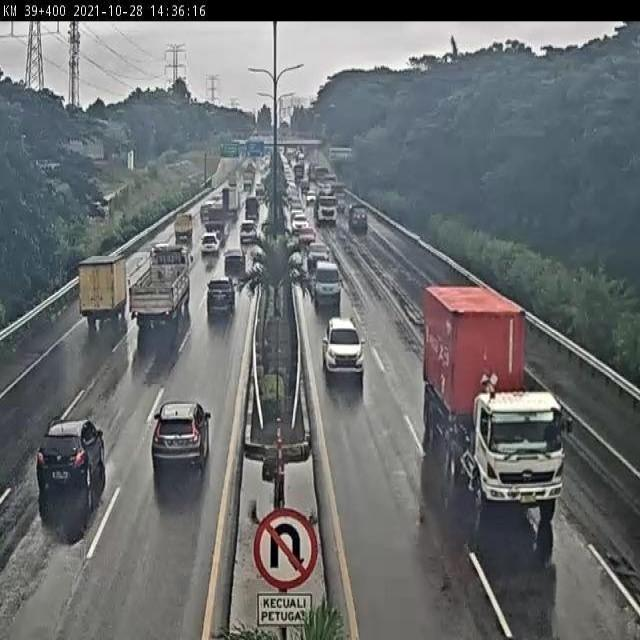Car: (36, 416, 106, 527), (148, 396, 215, 478), (322, 315, 365, 390), (311, 260, 343, 313), (206, 276, 237, 318), (223, 248, 246, 276), (200, 231, 221, 254), (239, 219, 258, 244)
Truck: (412, 267, 568, 529), (125, 238, 198, 344), (78, 250, 124, 336), (317, 194, 339, 230)
